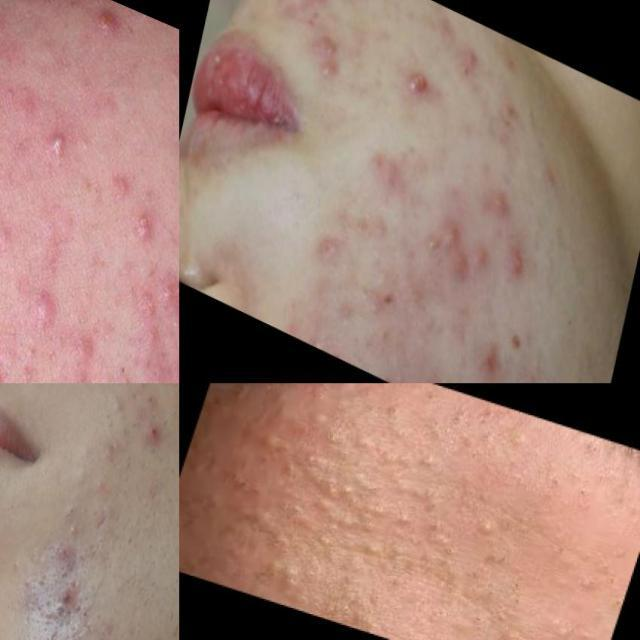Pimples: (365, 384, 514, 462), (523, 452, 605, 522), (15, 258, 70, 346), (57, 300, 109, 378), (586, 542, 640, 616), (389, 49, 443, 119), (213, 458, 276, 512), (18, 276, 66, 342), (402, 484, 453, 544), (36, 112, 80, 178), (120, 196, 166, 254), (75, 0, 129, 49), (468, 321, 507, 383), (494, 562, 534, 614), (44, 575, 83, 625), (496, 238, 536, 286), (310, 13, 342, 67), (443, 250, 478, 296), (155, 255, 179, 319), (139, 418, 169, 455), (55, 488, 84, 526), (437, 219, 463, 256), (30, 615, 64, 640), (136, 383, 162, 413), (421, 230, 442, 260)
